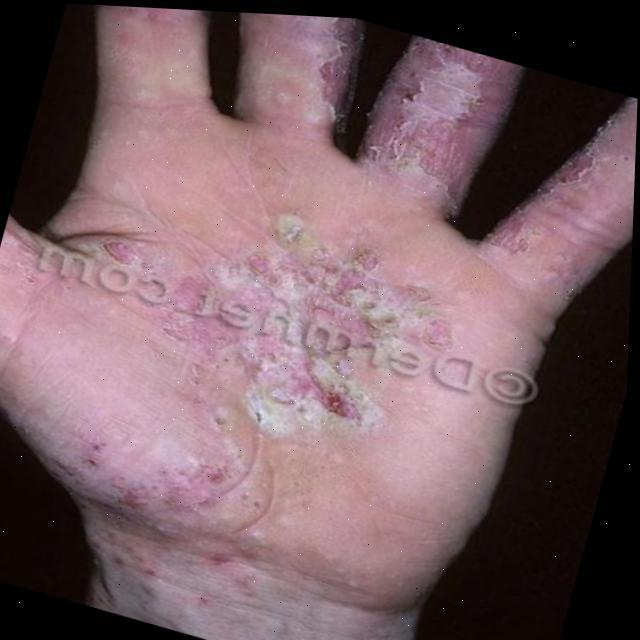Eczema: (65, 437, 256, 640), (355, 25, 503, 165), (201, 262, 346, 397)
